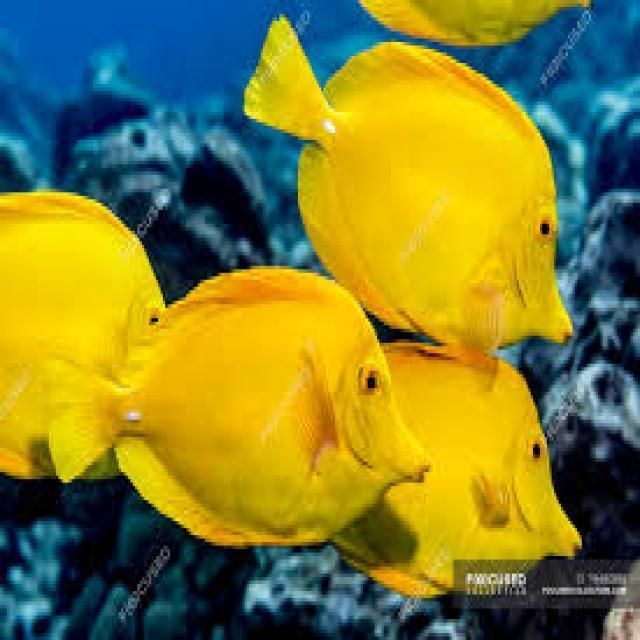TangFish: (242, 13, 577, 350), (46, 266, 427, 550), (358, 338, 582, 608)
